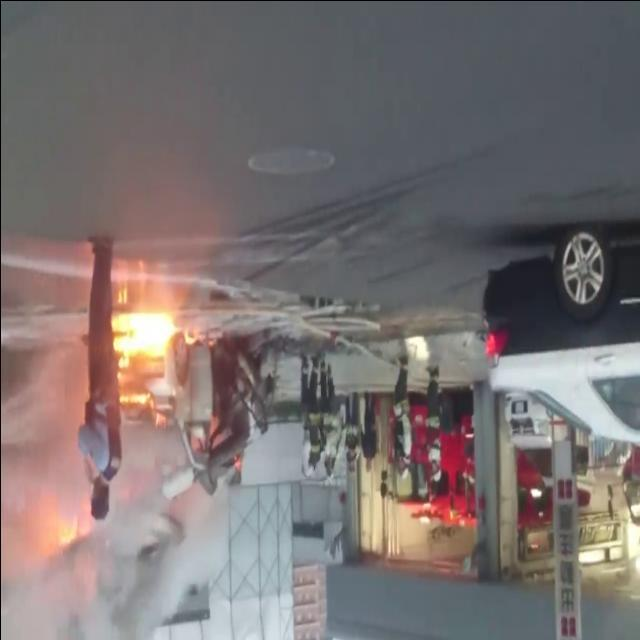Fire: (108, 313, 195, 370), (116, 388, 154, 410), (233, 453, 241, 473)
